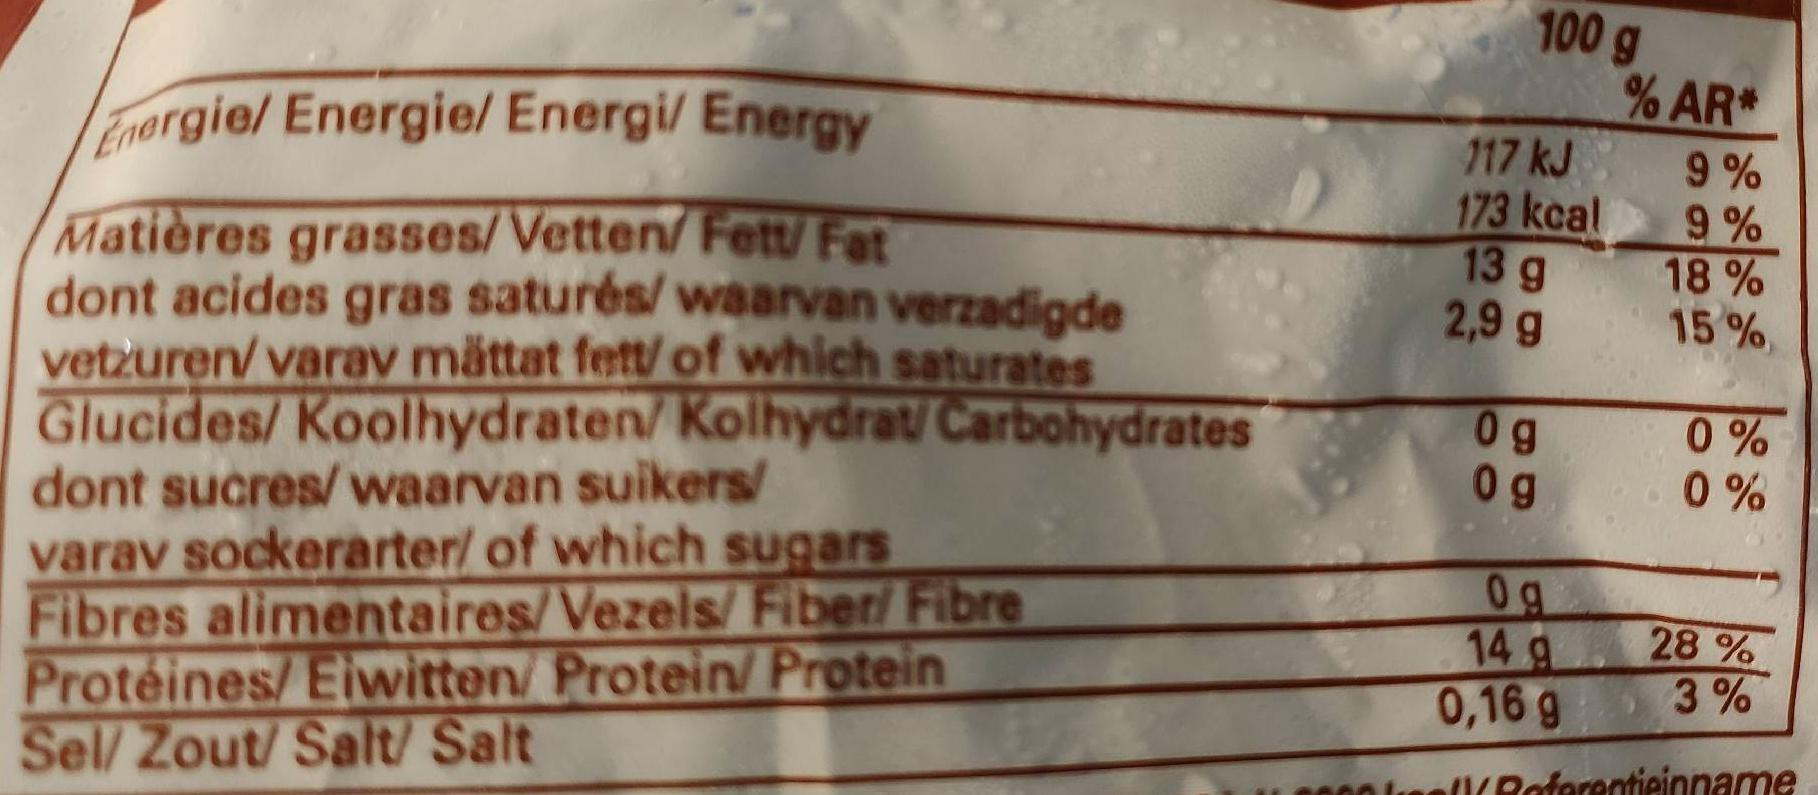column: (27, 90, 1258, 772), (1430, 132, 1601, 725), (1624, 73, 1774, 724)
table: (20, 13, 1812, 783)
